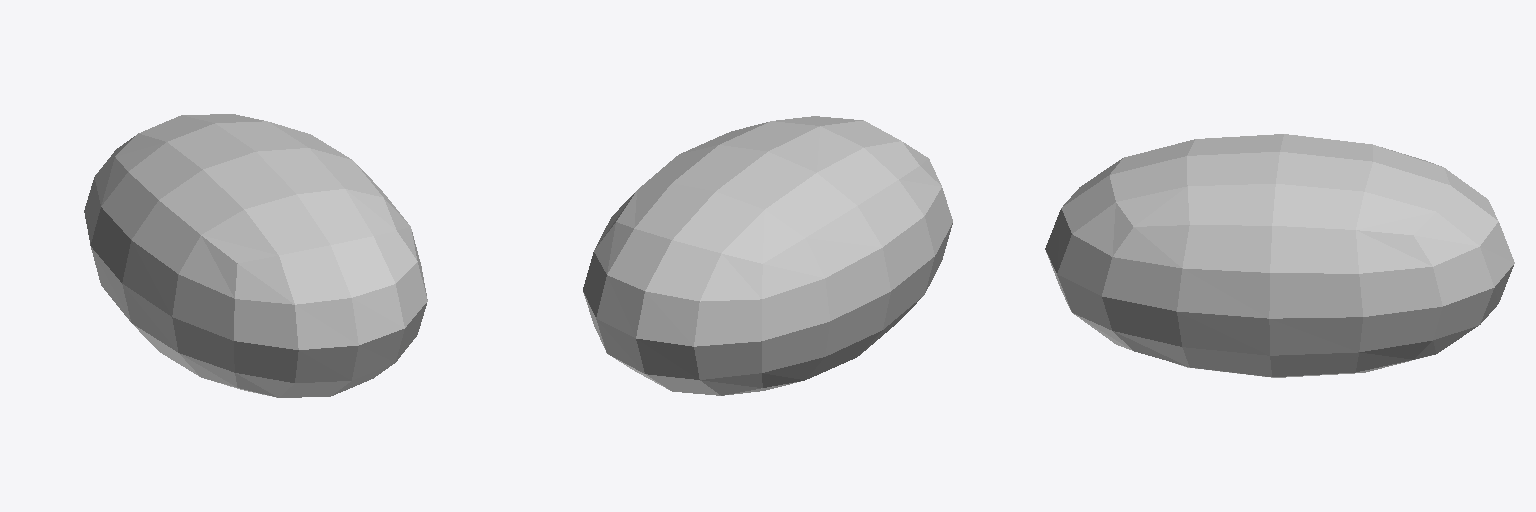
File: Porco-corpo.obj
The picture shows the model from 3 angles: view 1: azimuth 30°, elevation 25°; view 2: azimuth 150°, elevation 25°; view 3: azimuth 270°, elevation 25°; orthographic projection.
Visible parts, largest first — view 1: Porco-corpo_Cube; view 2: Porco-corpo_Cube; view 3: Porco-corpo_Cube.
Boxes of the visible parts, x1,y1,x2,y2 form: Porco-corpo_Cube: [84, 114, 427, 397]; Porco-corpo_Cube: [583, 116, 952, 395]; Porco-corpo_Cube: [1045, 134, 1514, 377].
Size of the model in its own units: 3.23 by 2.5 by 5.11.